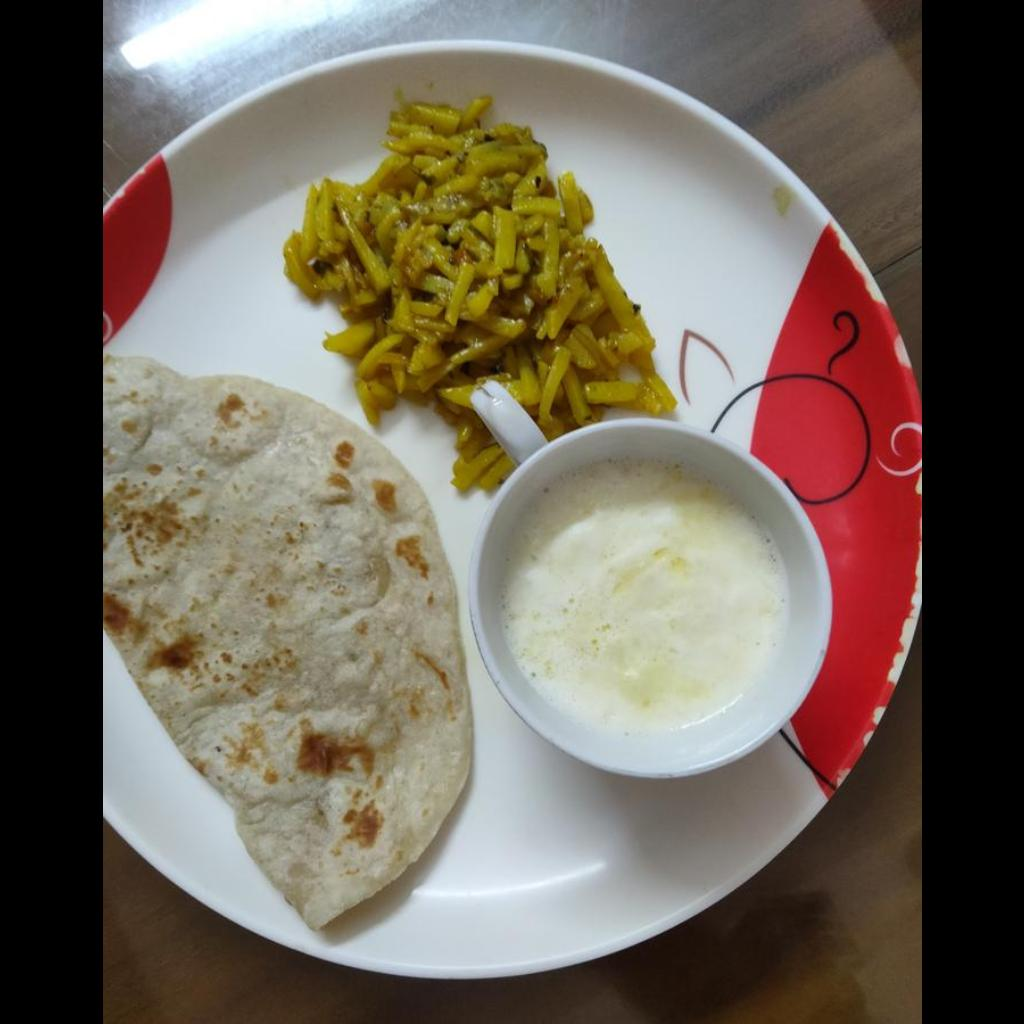milk: (492, 462, 786, 738)
ruti: (102, 353, 474, 929)
vaji: (280, 96, 682, 486)
